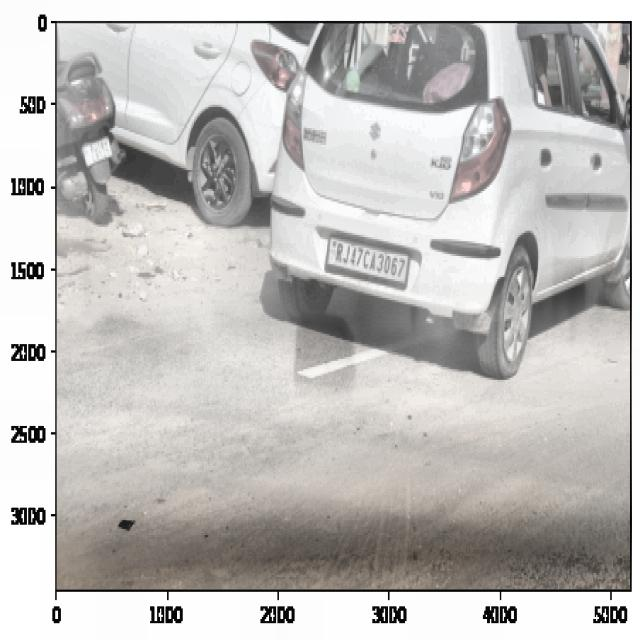license_plate: (331, 235, 408, 281)
